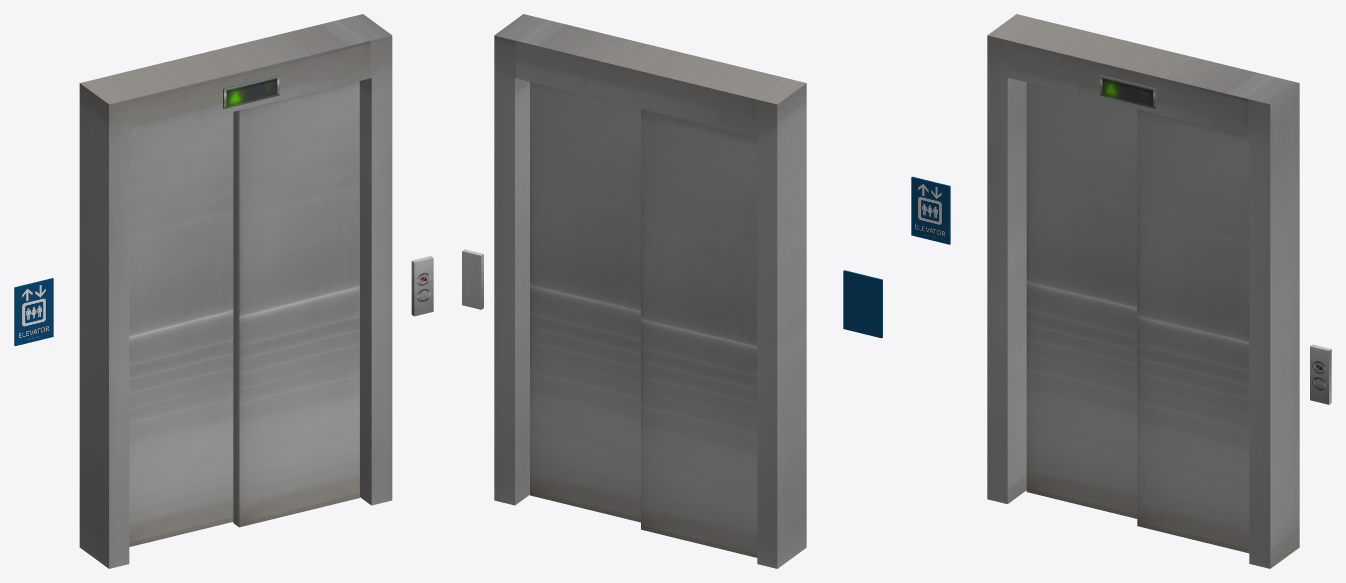
Rendered from Elevator.fbx.
The picture shows the model from 3 angles, left to right: view 1: azimuth 30°, elevation 25°; view 2: azimuth 150°, elevation 25°; view 3: azimuth 330°, elevation 25°; orthographic projection.
Visible parts, largest first — view 1: Frame door, Door A, Door B, elevator picture, Buttons; view 2: Frame door, Door B, Door A, elevator picture, Buttons; view 3: Frame door, Door A, Door B, elevator picture, Buttons.
Part boxes in pixels (x1,y1,x2,y2): Frame door: (79, 14, 392, 568); Door A: (233, 81, 359, 527); Door B: (129, 112, 233, 546); elevator picture: (14, 278, 53, 345); Buttons: (411, 256, 433, 316); Frame door: (494, 14, 806, 568); Door B: (641, 109, 757, 557); Door A: (530, 81, 640, 522); elevator picture: (843, 270, 882, 338); Buttons: (462, 249, 483, 309); Frame door: (987, 14, 1299, 568); Door A: (1137, 109, 1249, 553); Door B: (1026, 82, 1137, 518); elevator picture: (911, 176, 950, 244); Buttons: (1310, 344, 1331, 404).
Bounding box in the file's own units: 238 × 253 × 29.93.
Materials: 1 (1 with a texture image).
